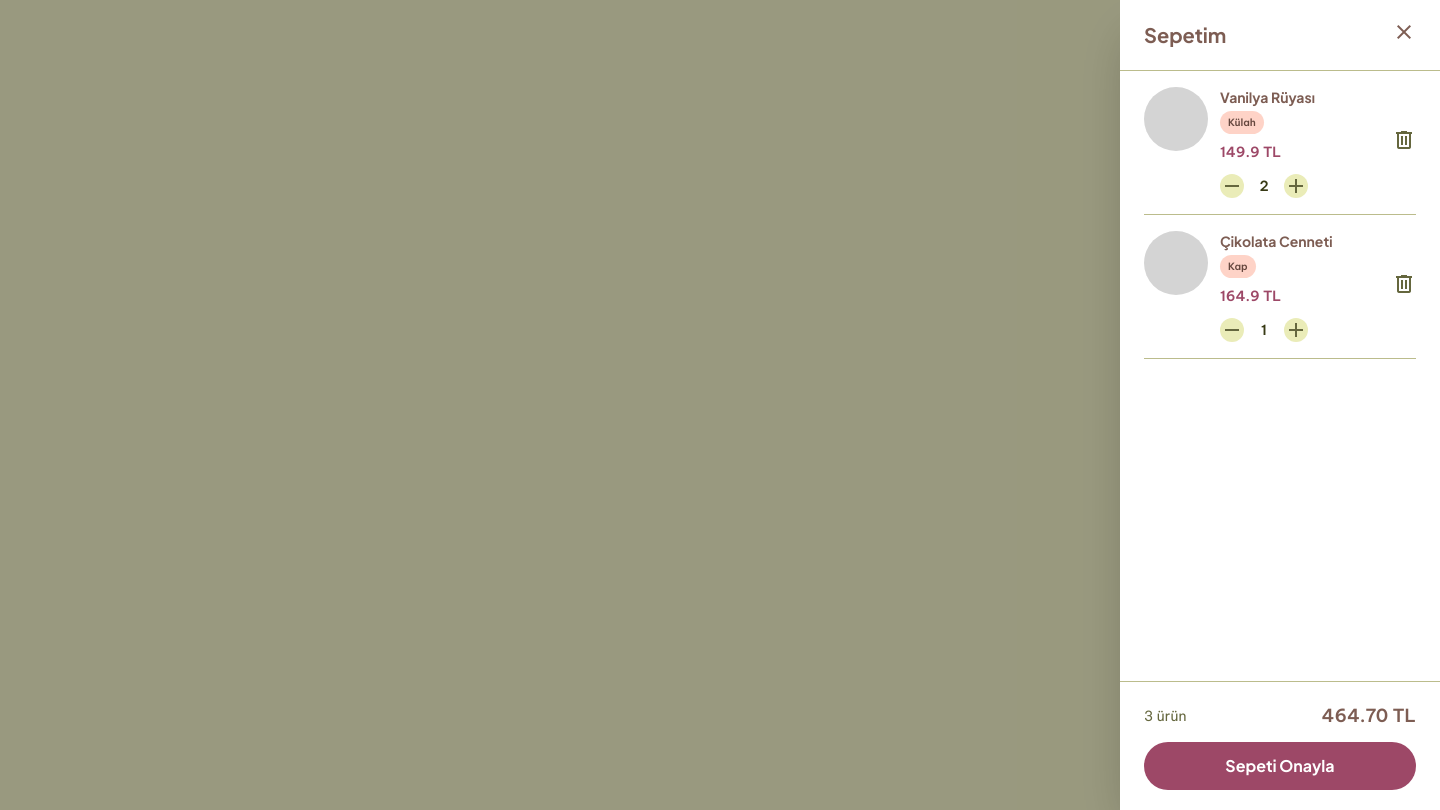
Test: BasketDrawer › toplam ürün miktarı ve toplam fiyat değeri ekrana basılır
Check: the text "3 ürün" is shown, box [1144, 706, 1186, 726]
Check: the text "464.70 TL" is shown, box [1322, 702, 1416, 730]
// sepeti onayla butonuna tıkla
Click the button "Sepeti Onayla" at (1280, 766), box [1144, 742, 1416, 790]
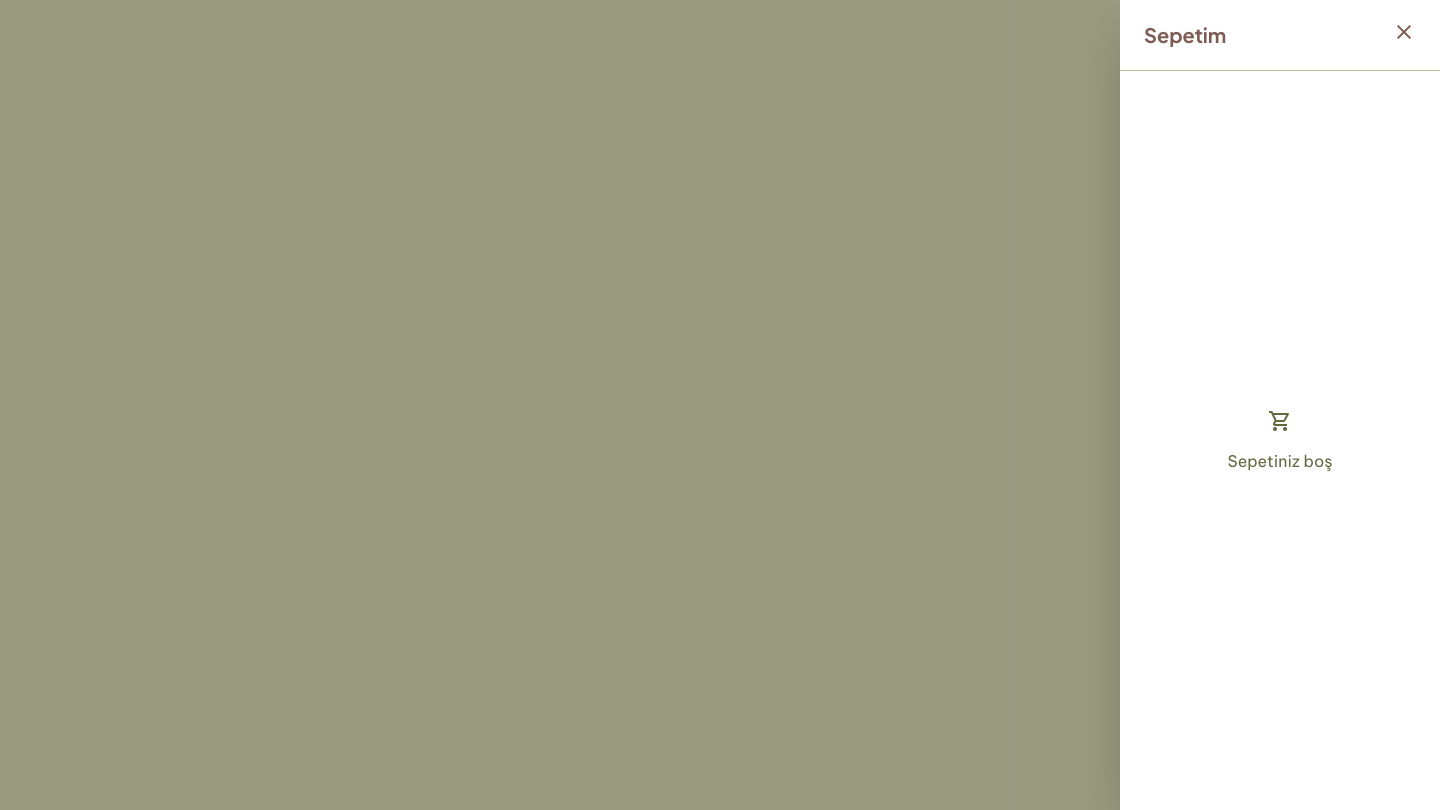
Check: the text "Sepetiniz boş" is shown, box [1228, 448, 1332, 472]
